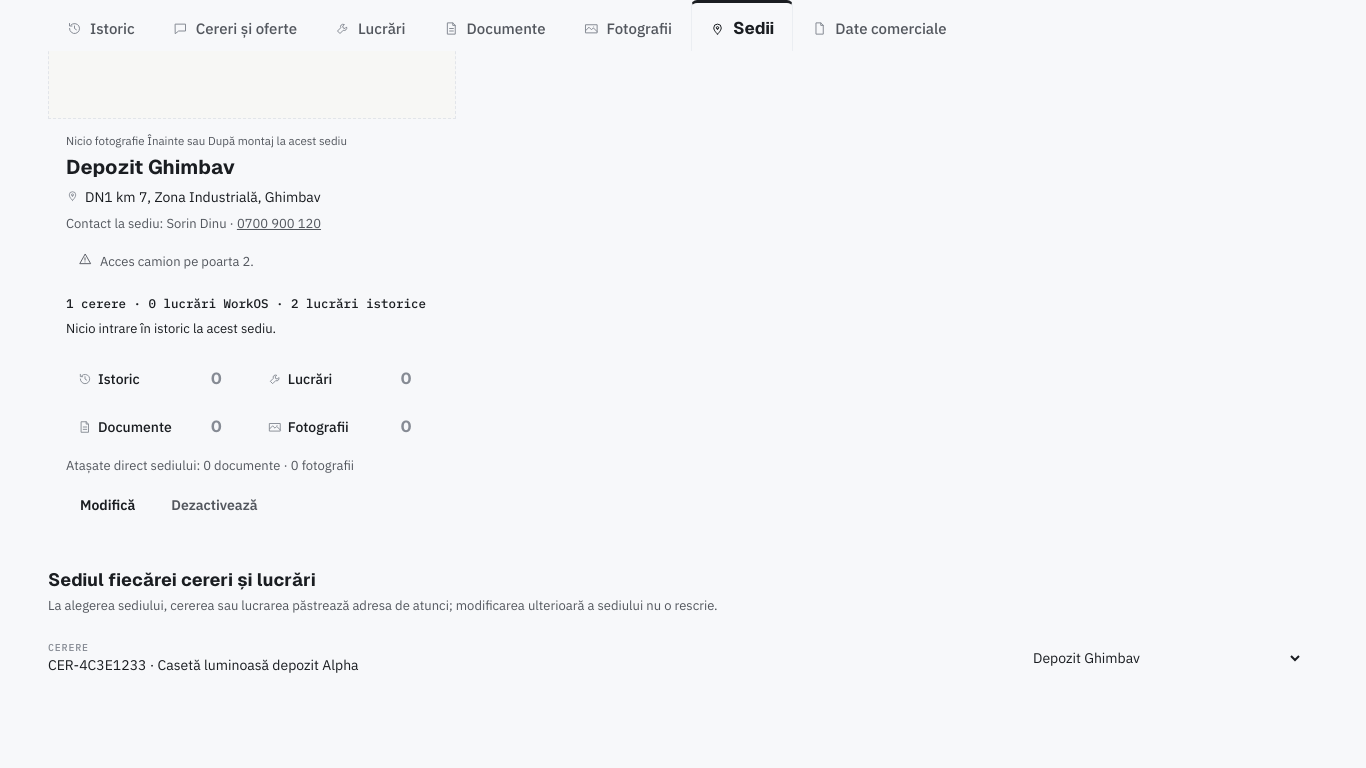
Test: Sedii · deactivation (759:682 → 759:980 → 759:1284 · 759:1132) › says what changes and what stays, keeps the site on a failure, retries, and reactivates
(page scrolled)
Step 1. Click the button with aria-label "Dezactivează Depozit Ghimbav" → (214, 506), box left=157, top=486, right=272, bottom=526
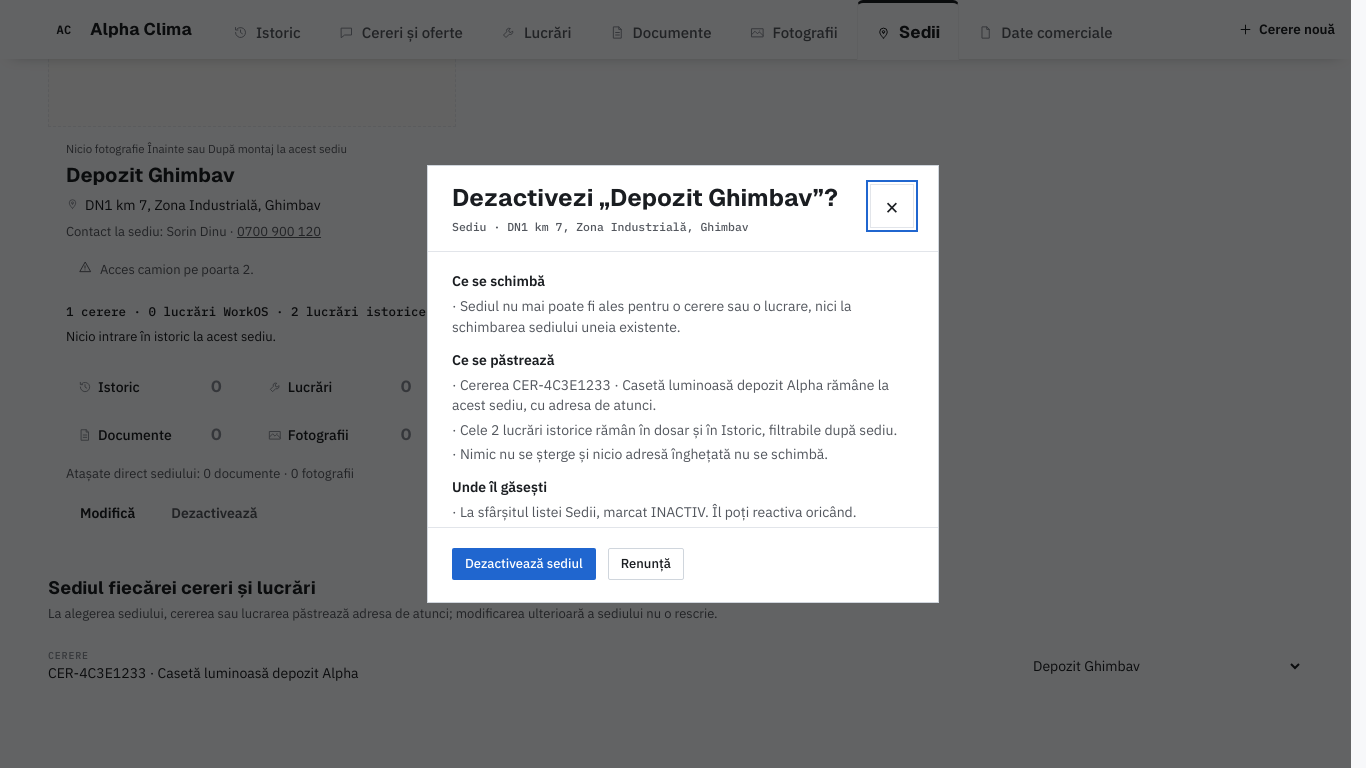
Expected: the list item "Cererea CER-4C3E1233 · Casetă luminoasă depozit Alpha rămâne la acest sediu, cu adresa de atunci." is shown, left=452, top=376, right=889, bottom=414
Expected: the list item "Cele 2 lucrări istorice" is shown, left=460, top=421, right=897, bottom=439
Step 2. Click the button "Dezactivează sediul" → (524, 564), box left=452, top=542, right=596, bottom=586
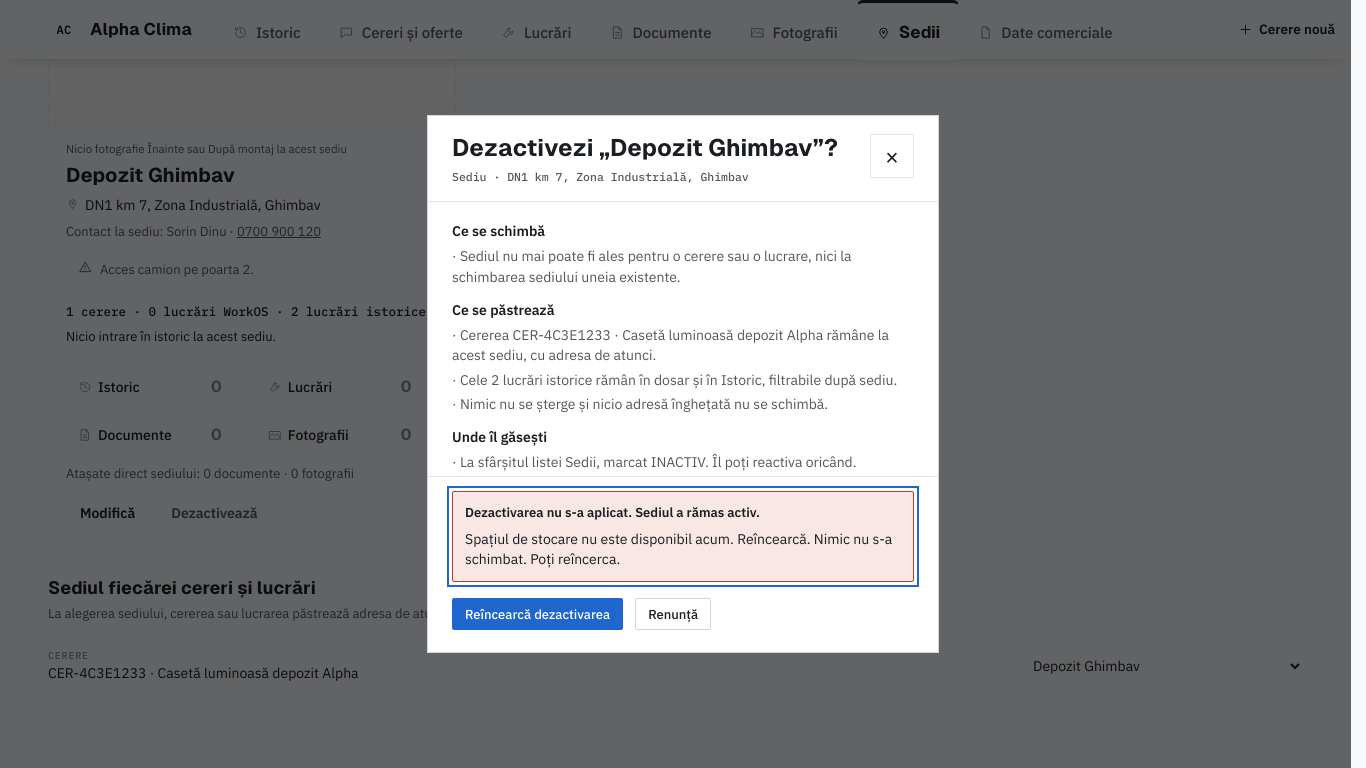
Expected: the text "Dezactivarea nu s-a aplicat. Sediul a rămas activ." is shown, left=465, top=504, right=760, bottom=521
Step 3. Click the button "Reîncearcă dezactivarea" → (538, 614), box left=452, top=592, right=623, bottom=636
(page scrolled)
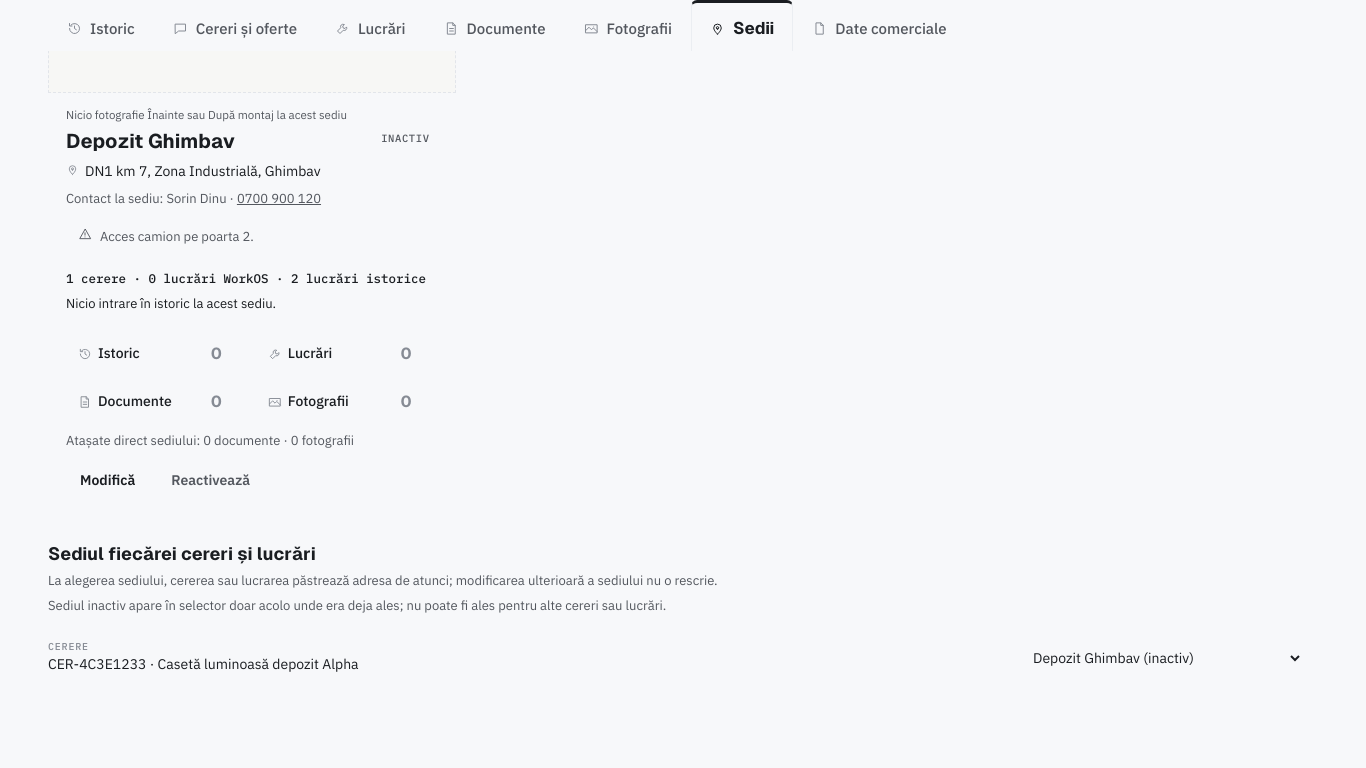
Expected: the text "INACTIV" is shown, left=381, top=131, right=430, bottom=145
Step 4. Click the button with aria-label "Reactivează Depozit Ghimbav" → (211, 480), box left=157, top=460, right=264, bottom=500
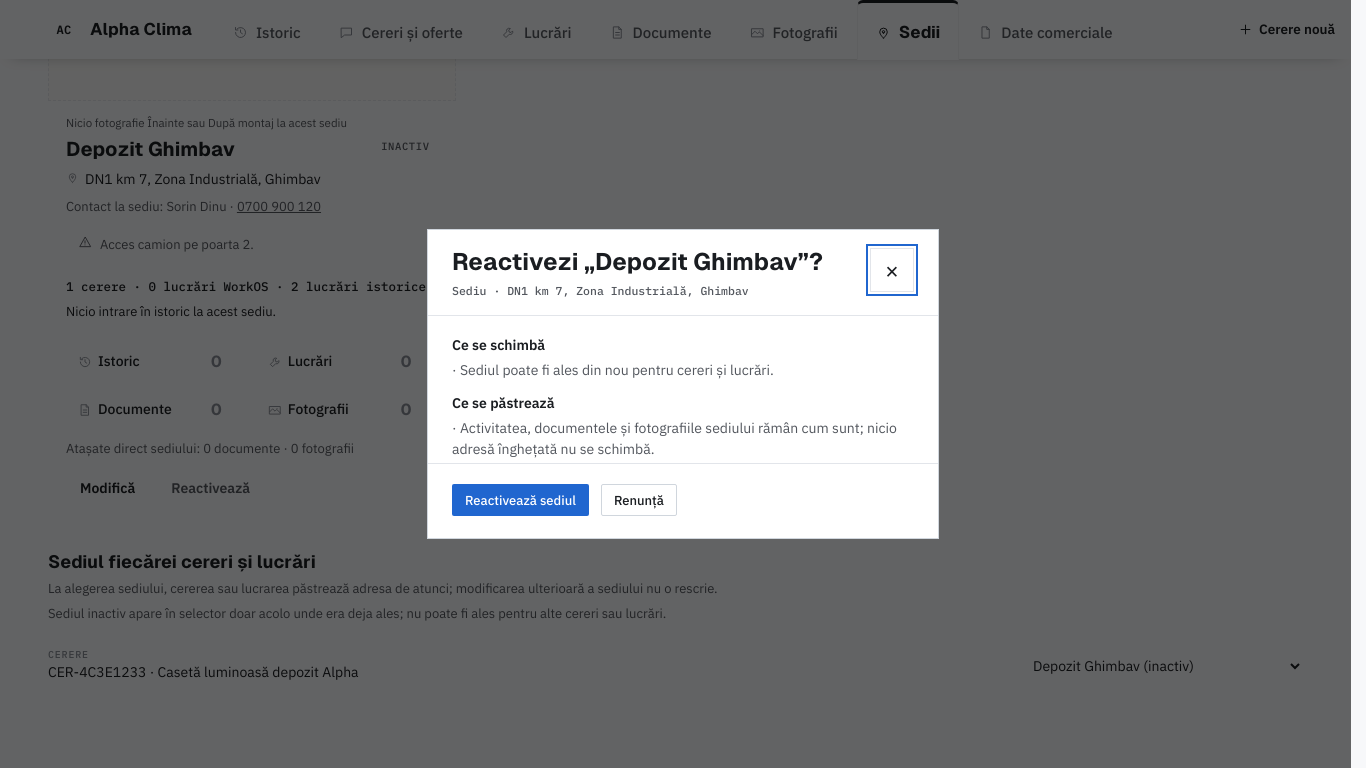
Step 5. Click the button "Reactivează sediul" → (520, 500), box left=452, top=478, right=589, bottom=522
(page scrolled)
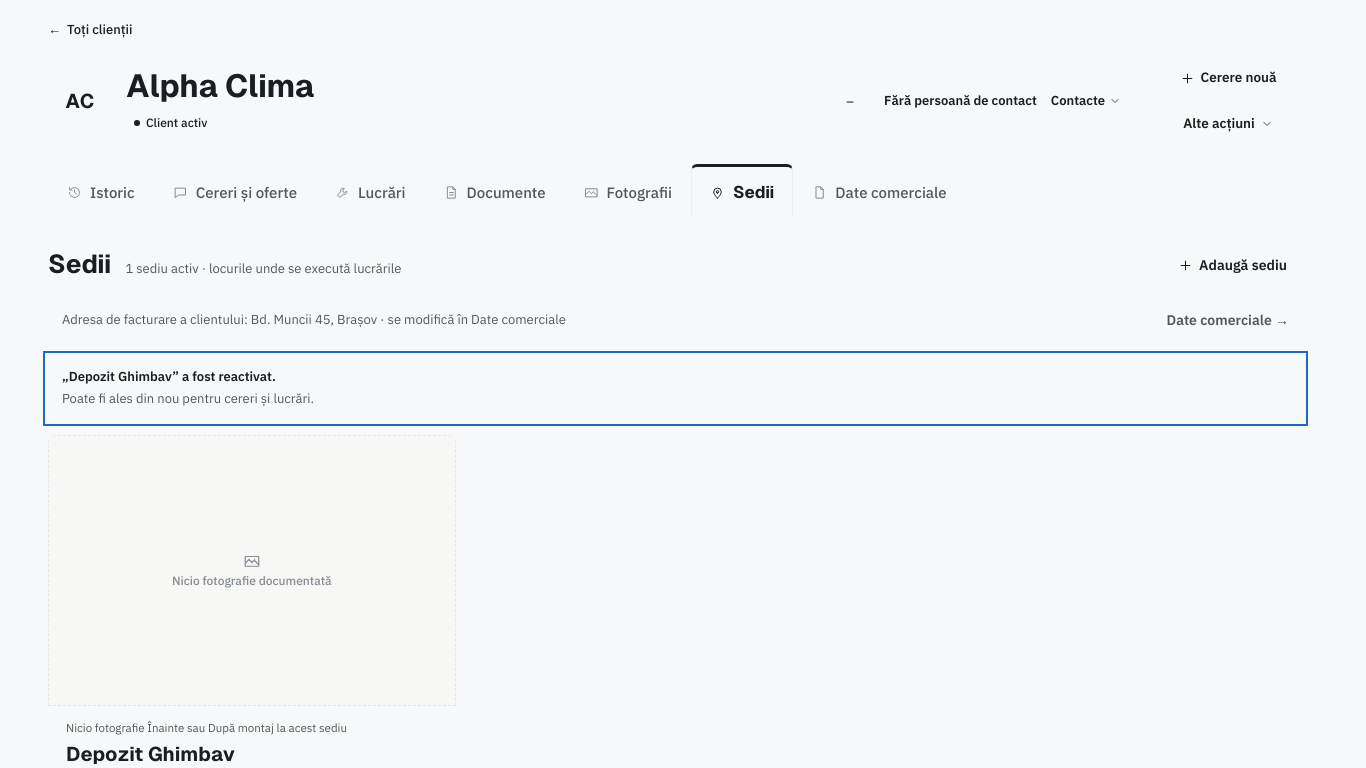
Expected: the text "„Depozit Ghimbav” a fost reactivat." is shown, left=62, top=368, right=276, bottom=385
